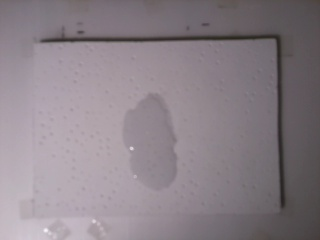Water_detected: (126, 107, 171, 185)
